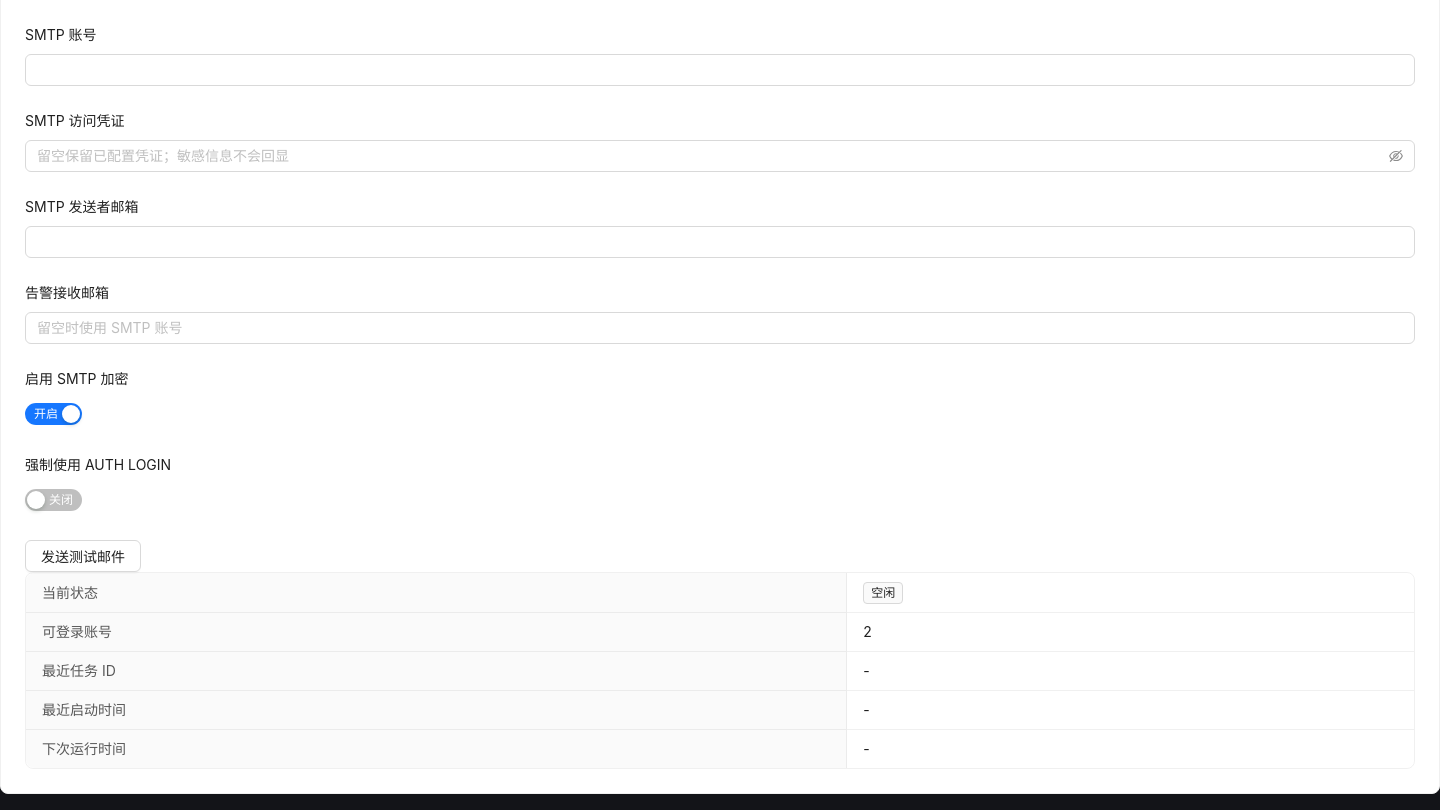
Test: ChatGPTAutoReloginSection › shows the SMTP test failure detail and allows another attempt
This screenshot has width=1440, height=810.
(page scrolled)
Click the button "发送测试邮件": (83, 556) [25,540,141,572]
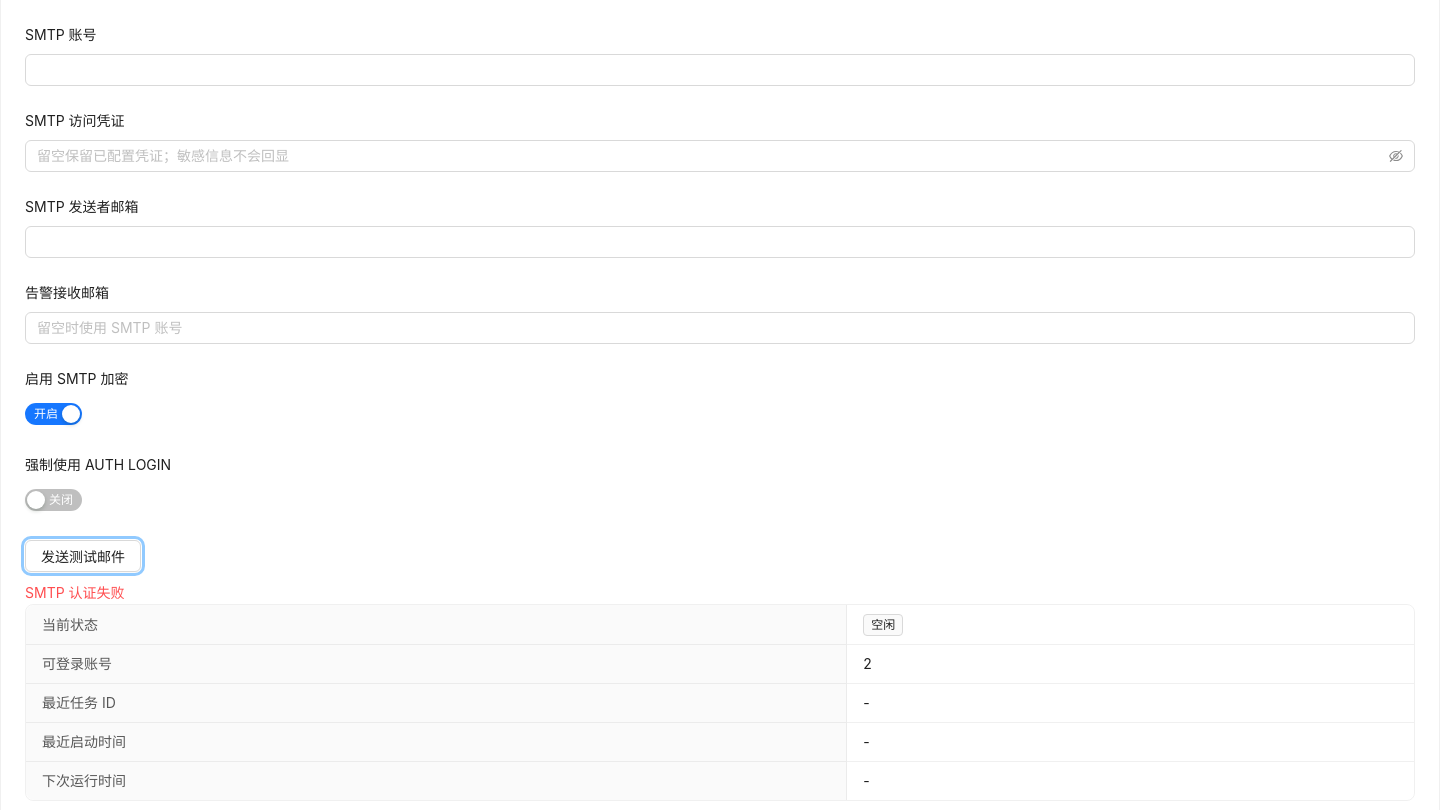
Now the message "SMTP 认证失败" is shown, box [25,584,124,601]
Click the button "发送测试邮件": (83, 556) [25,540,141,572]
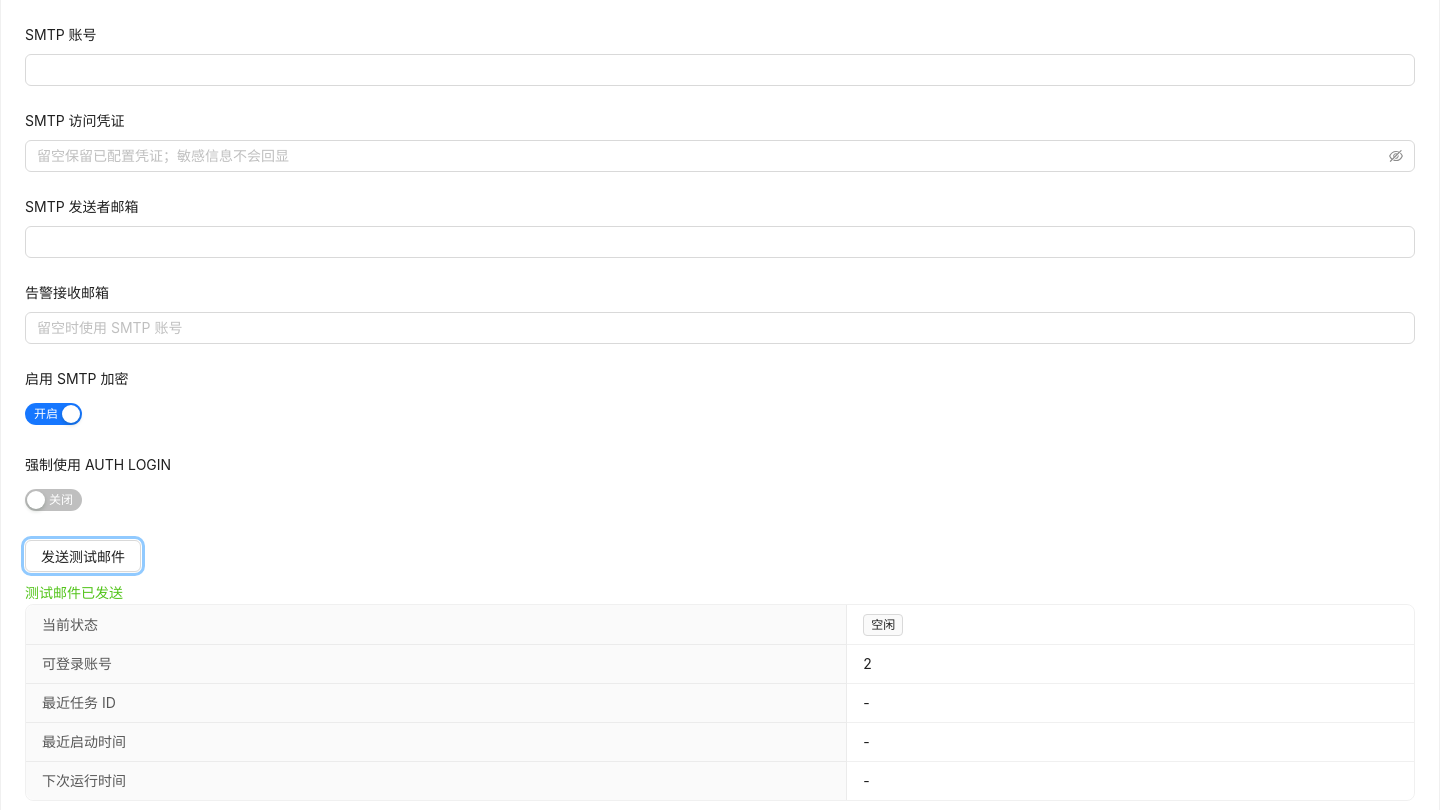
Now the text "测试邮件已发送" is shown, box [25,584,123,601]
